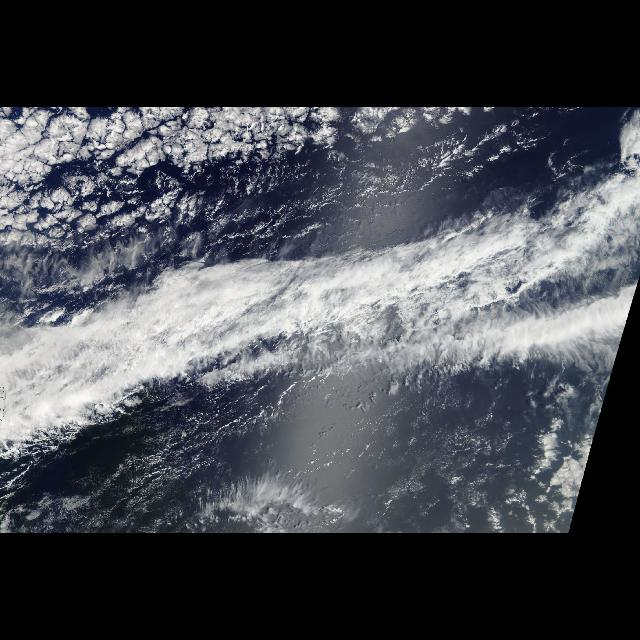Fish: (181, 143, 639, 414)
Flower: (1, 109, 360, 249)
